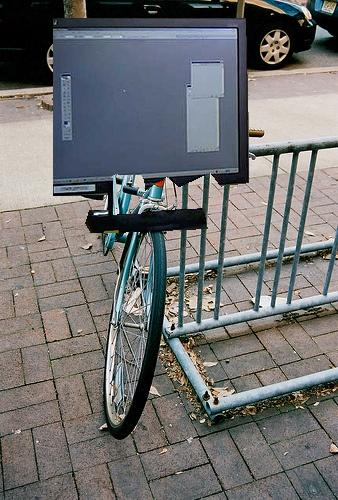tampered: (54, 19, 249, 233)
